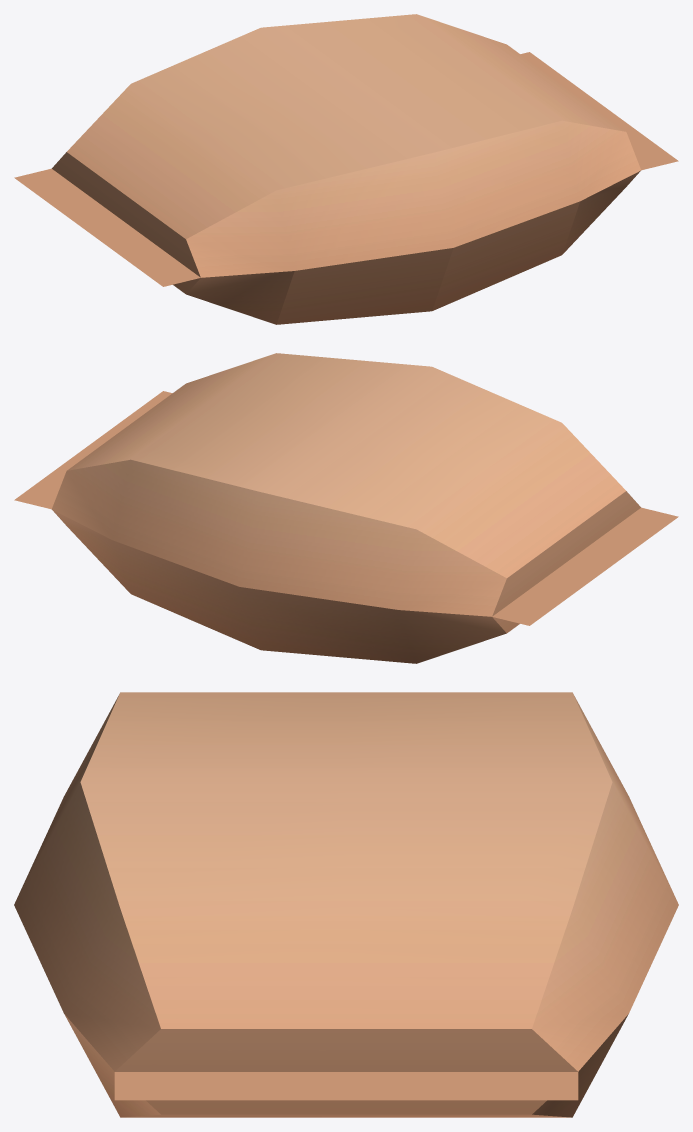
File: kenney-food-bag-flat.glb
The picture shows the model from 3 angles, top to bottom: view 1: azimuth 30°, elevation 25°; view 2: azimuth 150°, elevation 25°; view 3: azimuth 270°, elevation 25°; orthographic projection. The views are drawn at different scales.
Visible parts, largest first — view 1: bag-flat; view 2: bag-flat; view 3: bag-flat.
Boxes of the visible parts, <box> form: bag-flat: <box>14,14,678,324</box>; bag-flat: <box>14,353,678,663</box>; bag-flat: <box>14,692,678,1117</box>.
Bounding box in the file's own units: 0.65 × 0.1905 × 0.4675.
Materials: 1 (1 with a texture image).
